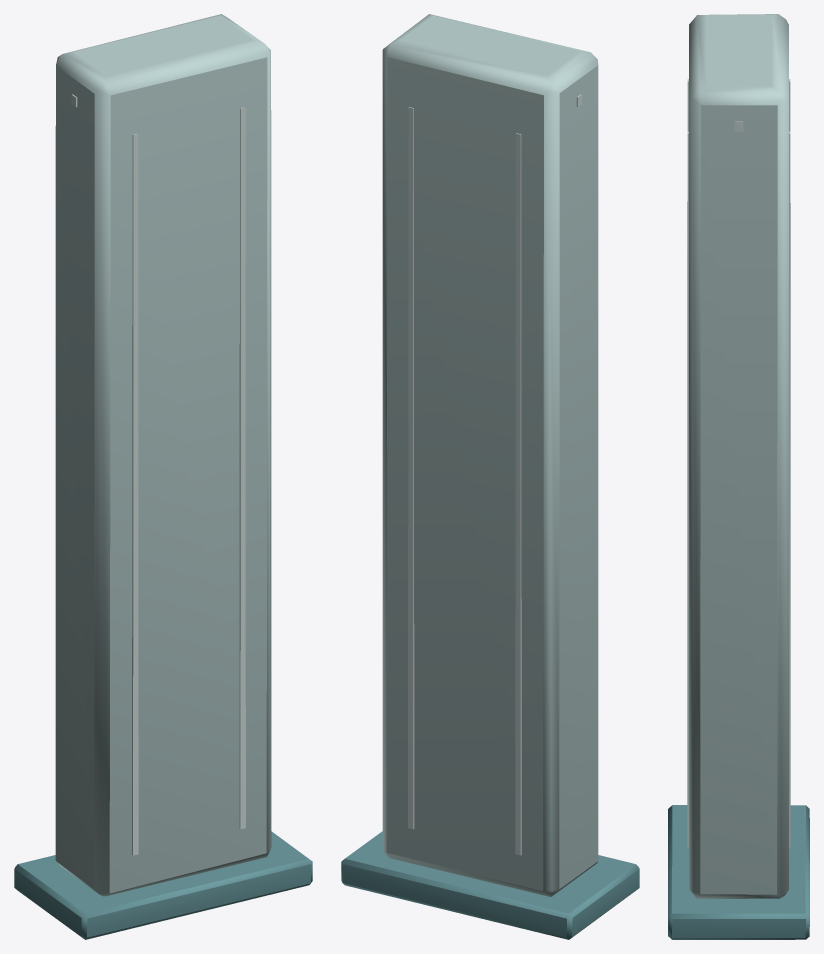
Rendered from monolith.lod.glb.
The picture shows the model from 3 angles, left to right: view 1: azimuth 30°, elevation 25°; view 2: azimuth 150°, elevation 25°; view 3: azimuth 270°, elevation 25°; orthographic projection.
Parts seen in each view (by area): view 1: monolith; view 2: monolith; view 3: monolith.
Part boxes in pixels (bbox=[...]): monolith: bbox=[14, 14, 312, 939]; monolith: bbox=[341, 14, 639, 939]; monolith: bbox=[668, 14, 809, 939].
Bounding box in the file's own units: 5.17 × 17.98 × 2.77.
